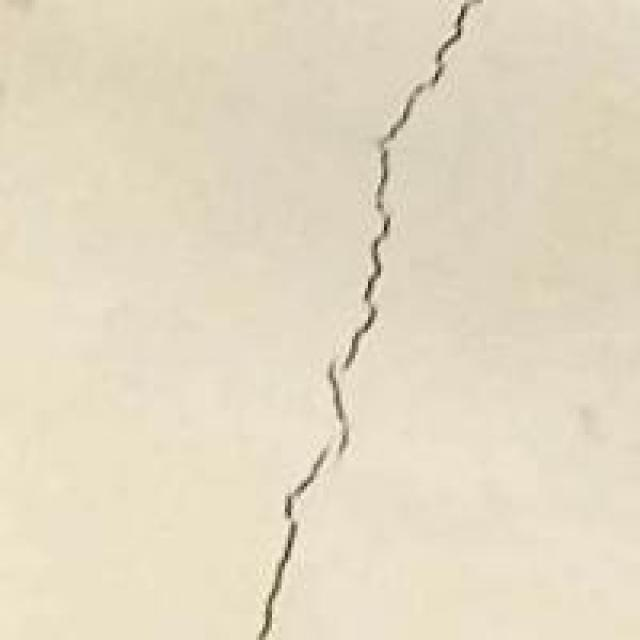Crack: (214, 0, 509, 637)
